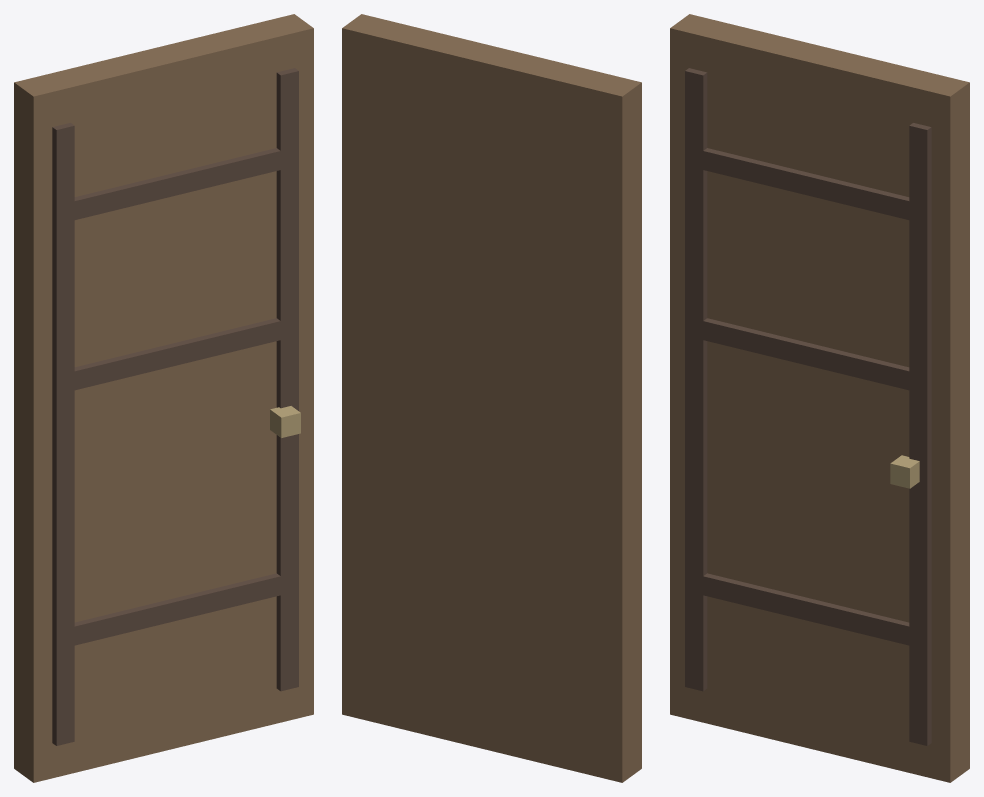
File: the_house_basement_door.glb
3 views of the same model, side by side, from view 1: azimuth 30°, elevation 25°; view 2: azimuth 150°, elevation 25°; view 3: azimuth 330°, elevation 25° (orthographic).
Visible parts, largest first — view 1: geometry_0; view 2: geometry_0; view 3: geometry_0.
Part boxes in pixels (left/top/right/bottom): geometry_0: left=14, top=14, right=313, bottom=782; geometry_0: left=342, top=14, right=641, bottom=782; geometry_0: left=670, top=14, right=969, bottom=782.
Size of the model in its own units: 1 by 2.34 by 0.205.
